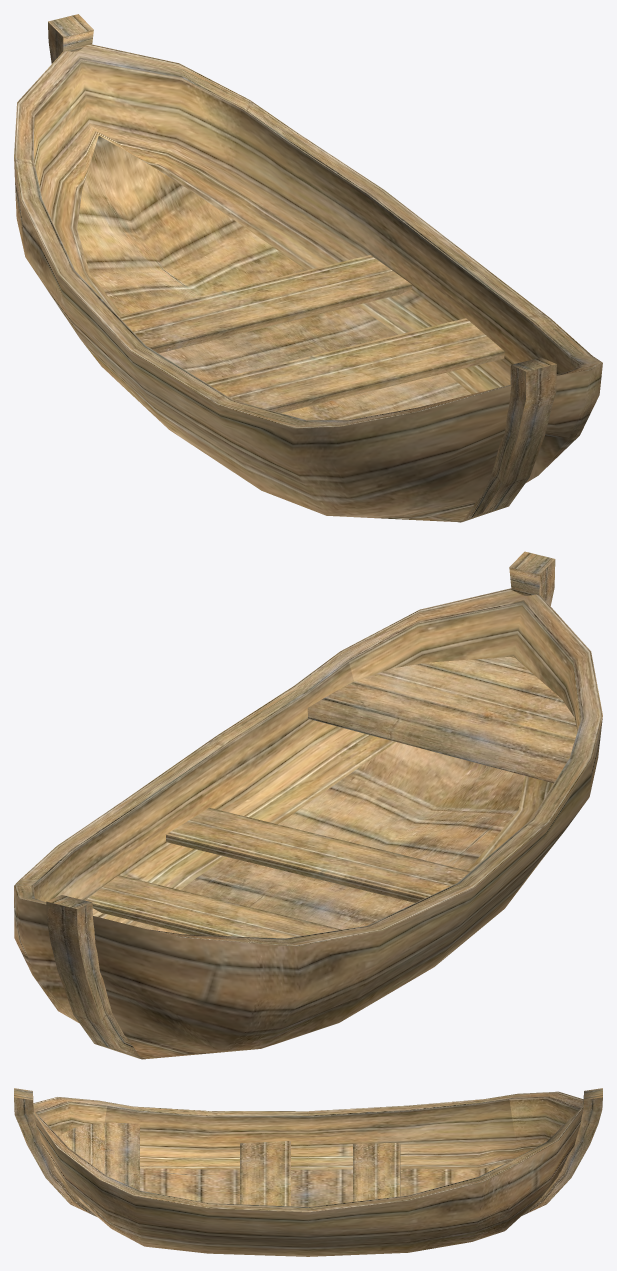
The model's file is dingy-geometry_High.fbx.
3 views of the same model, one above another, from view 1: azimuth 30°, elevation 25°; view 2: azimuth 150°, elevation 25°; view 3: azimuth 270°, elevation 25° (orthographic). The views are drawn at different scales.
Visible parts, largest first — view 1: walls, nurbsToPoly1, seat, seat1, polySurface4, polySurface5; view 2: walls, rear, nurbsToPoly1, seat, seat1, polySurface5, polySurface4; view 3: walls, nurbsToPoly1, rear, seat, seat1, polySurface4, polySurface5.
Part boxes in pixels (x1,y1,x2,y2): walls: (14,60,602,522); nurbsToPoly1: (14,44,602,428); seat: (205,318,504,412); seat1: (119,255,412,353); polySurface4: (460,357,556,522); polySurface5: (48,14,93,63); walls: (14,603,602,1059); rear: (307,656,577,783); nurbsToPoly1: (14,588,602,946); seat: (166,808,470,902); seat1: (85,875,341,938); polySurface5: (46,895,141,1059); polySurface4: (509,551,555,605); walls: (32,1097,583,1256); nurbsToPoly1: (33,1091,583,1212); rear: (58,1122,139,1190); seat: (240,1141,290,1206); seat1: (353,1143,400,1201); polySurface4: (14,1088,96,1216); polySurface5: (522,1088,602,1215).
Bounding box in the file's own units: 1538 × 980 × 3671.
Materials: 1 (1 with a texture image).
